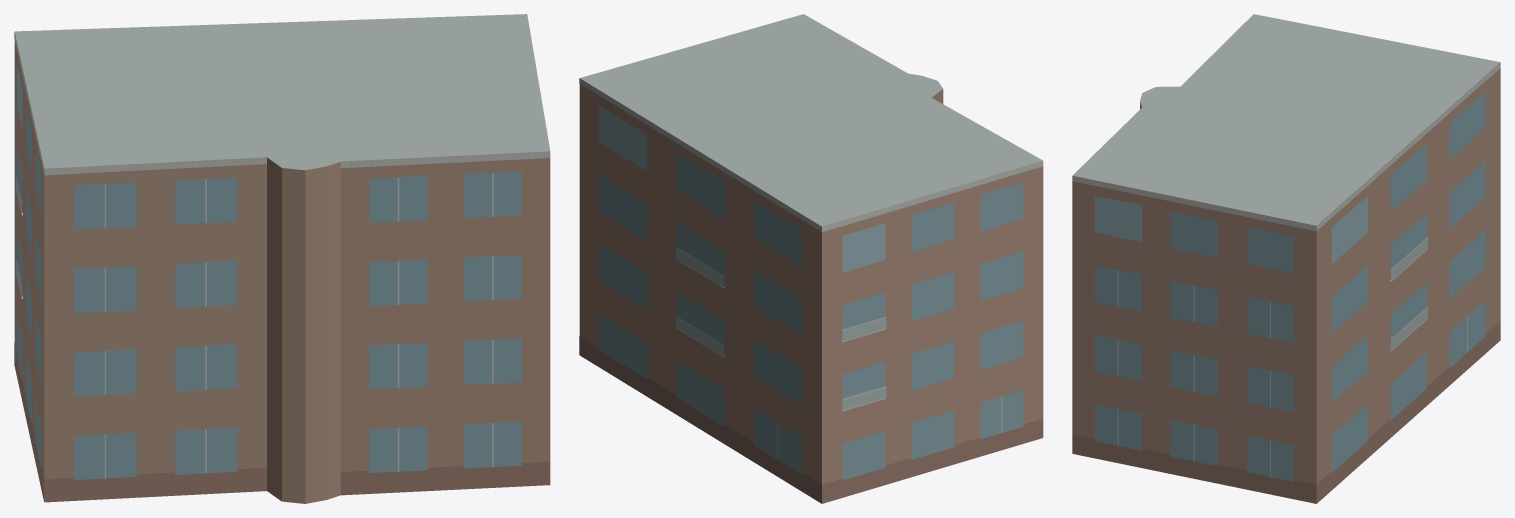
File: survey-upis-32734380.glb
3 views of the same model, side by side, from view 1: azimuth 30°, elevation 25°; view 2: azimuth 150°, elevation 25°; view 3: azimuth 270°, elevation 25° (orthographic). The views are drawn at different scales.
Visible parts, largest first — view 1: survey-upis-32734380.tmp; view 2: survey-upis-32734380.tmp; view 3: survey-upis-32734380.tmp.
Boxes of the visible parts, x1,y1,x2,y2 form: survey-upis-32734380.tmp: [14, 14, 550, 503]; survey-upis-32734380.tmp: [579, 14, 1043, 503]; survey-upis-32734380.tmp: [1072, 14, 1500, 503].
Size of the model in its own units: 19.93 by 12.2 by 17.03.
